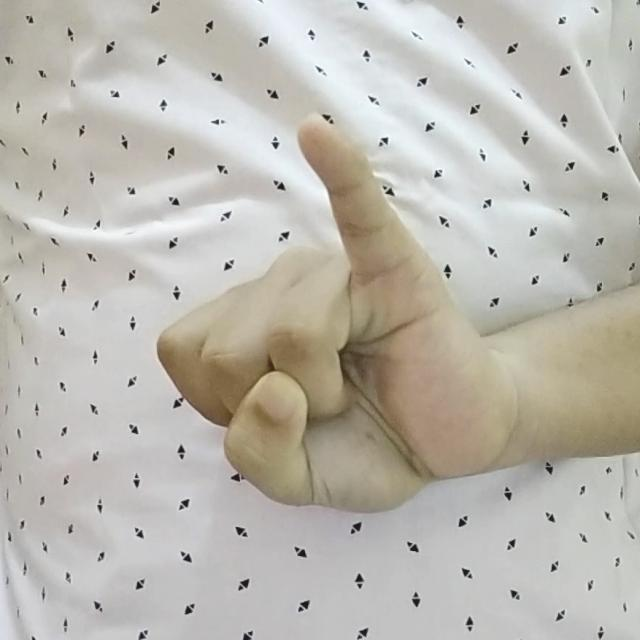I: (148, 109, 502, 532)
